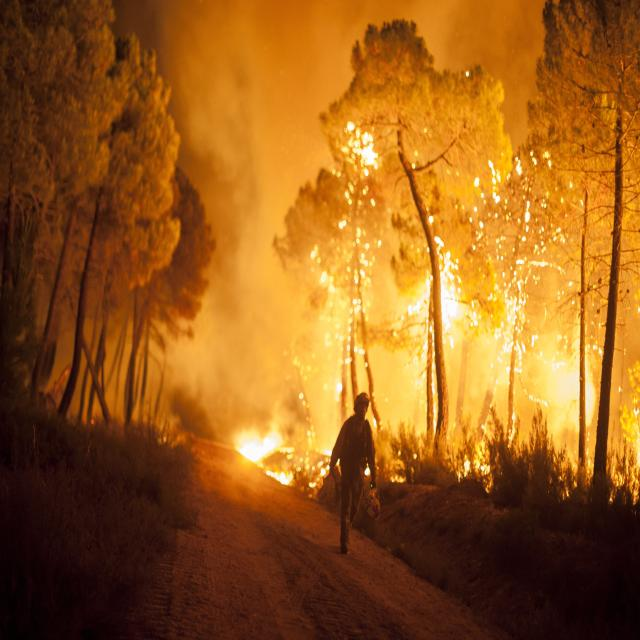Fire: (307, 122, 639, 493), (232, 416, 332, 494)
Smoke: (101, 0, 640, 415)
